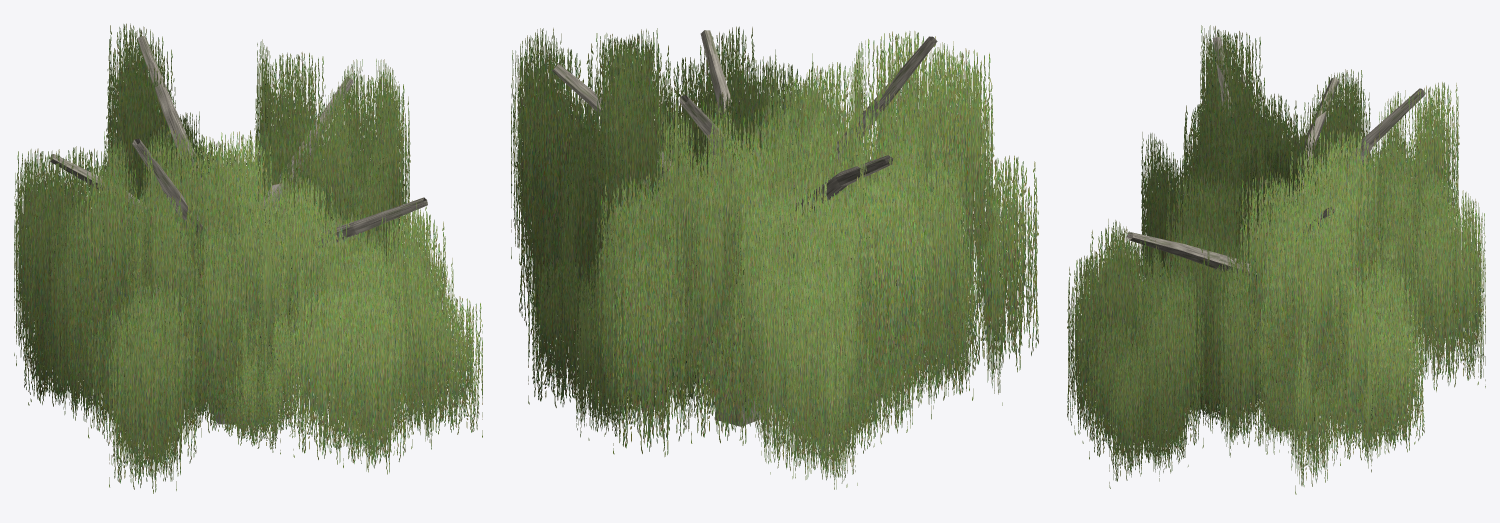
File: Tree_Willow_2_LOD1.gltf
3 views of the same model, side by side, from view 1: azimuth 30°, elevation 25°; view 2: azimuth 150°, elevation 25°; view 3: azimuth 270°, elevation 25° (orthographic). The views are drawn at different scales.
Visible parts, largest first — view 1: Tree_Willow_2_LOD1; view 2: Tree_Willow_2_LOD1; view 3: Tree_Willow_2_LOD1.
Part boxes in pixels (<box>): Tree_Willow_2_LOD1: <box>14,23,482,493</box>; Tree_Willow_2_LOD1: <box>511,26,1038,489</box>; Tree_Willow_2_LOD1: <box>1067,25,1485,494</box>.
Size of the model in its own units: 11.63 by 10.35 by 11.66.
2 materials, 2 textured.
